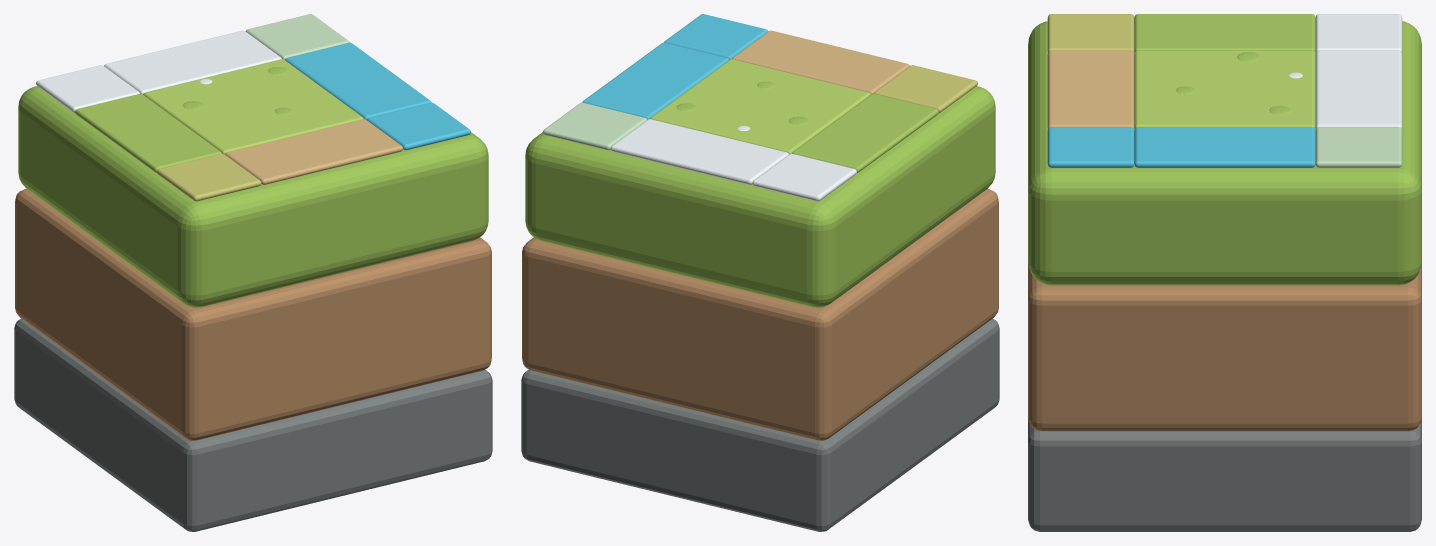
File: TopSliceConcept.fbx
3 renders of one model, left to right at view 1: azimuth 30°, elevation 25°; view 2: azimuth 150°, elevation 25°; view 3: azimuth 270°, elevation 25°, orthographic. The views are drawn at different scales.
Parts seen in each view (by area): view 1: Soil, TopicBody_Continuous_NotSplit, Rock, Top_Center, Top_S_Edge, Top_W_Edge, Top_N_Edge, Top_E_Edge, Top_SW_Corner, Top_SE_Corner, Top_NW_Corner, Top_NE_Corner; view 2: Soil, TopicBody_Continuous_NotSplit, Rock, Top_Center, Top_N_Edge, Top_W_Edge, Top_S_Edge, Top_E_Edge, Top_NW_Corner, Top_NE_Corner, Top_SW_Corner, Top_SE_Corner; view 3: Soil, TopicBody_Continuous_NotSplit, Rock, Top_Center, Top_E_Edge, Top_N_Edge, Top_S_Edge, Top_W_Edge, Top_NE_Corner, Top_SE_Corner, Top_NW_Corner, Top_SW_Corner.
Boxes of the visible parts, x1=… form: Soil: x1=15, y1=188, x2=491, y2=440; TopicBody_Continuous_NotSplit: x1=18, y1=86, x2=488, y2=307; Rock: x1=14, y1=318, x2=492, y2=531; Top_Center: x1=143, y1=59, x2=363, y2=154; Top_S_Edge: x1=225, y1=119, x2=403, y2=184; Top_W_Edge: x1=75, y1=93, x2=221, y2=172; Top_N_Edge: x1=104, y1=30, x2=281, y2=94; Top_E_Edge: x1=285, y1=42, x2=431, y2=119; Top_SW_Corner: x1=157, y1=153, x2=261, y2=201; Top_SE_Corner: x1=366, y1=102, x2=470, y2=150; Top_NW_Corner: x1=36, y1=65, x2=139, y2=112; Top_NE_Corner: x1=245, y1=14, x2=349, y2=59; Soil: x1=522, y1=188, x2=998, y2=440; TopicBody_Continuous_NotSplit: x1=525, y1=86, x2=995, y2=307; Rock: x1=521, y1=318, x2=999, y2=531; Top_Center: x1=650, y1=59, x2=870, y2=154; Top_N_Edge: x1=610, y1=119, x2=788, y2=184; Top_W_Edge: x1=792, y1=93, x2=938, y2=172; Top_S_Edge: x1=732, y1=30, x2=909, y2=94; Top_E_Edge: x1=582, y1=42, x2=728, y2=119; Top_NW_Corner: x1=752, y1=153, x2=856, y2=201; Top_NE_Corner: x1=543, y1=102, x2=647, y2=150; Top_SW_Corner: x1=874, y1=65, x2=977, y2=112; Top_SE_Corner: x1=664, y1=14, x2=768, y2=59; Soil: x1=1028, y1=262, x2=1421, y2=431; TopicBody_Continuous_NotSplit: x1=1028, y1=21, x2=1421, y2=285; Rock: x1=1028, y1=418, x2=1421, y2=531; Top_Center: x1=1134, y1=50, x2=1315, y2=128; Top_E_Edge: x1=1134, y1=127, x2=1315, y2=167; Top_N_Edge: x1=1315, y1=50, x2=1402, y2=128; Top_S_Edge: x1=1047, y1=50, x2=1134, y2=128; Top_W_Edge: x1=1134, y1=14, x2=1315, y2=52; Top_NE_Corner: x1=1315, y1=127, x2=1402, y2=167; Top_SE_Corner: x1=1047, y1=127, x2=1134, y2=167; Top_NW_Corner: x1=1315, y1=14, x2=1402, y2=52; Top_SW_Corner: x1=1047, y1=14, x2=1134, y2=52.
Bounding box in the file's own units: 100 × 104 × 100.
